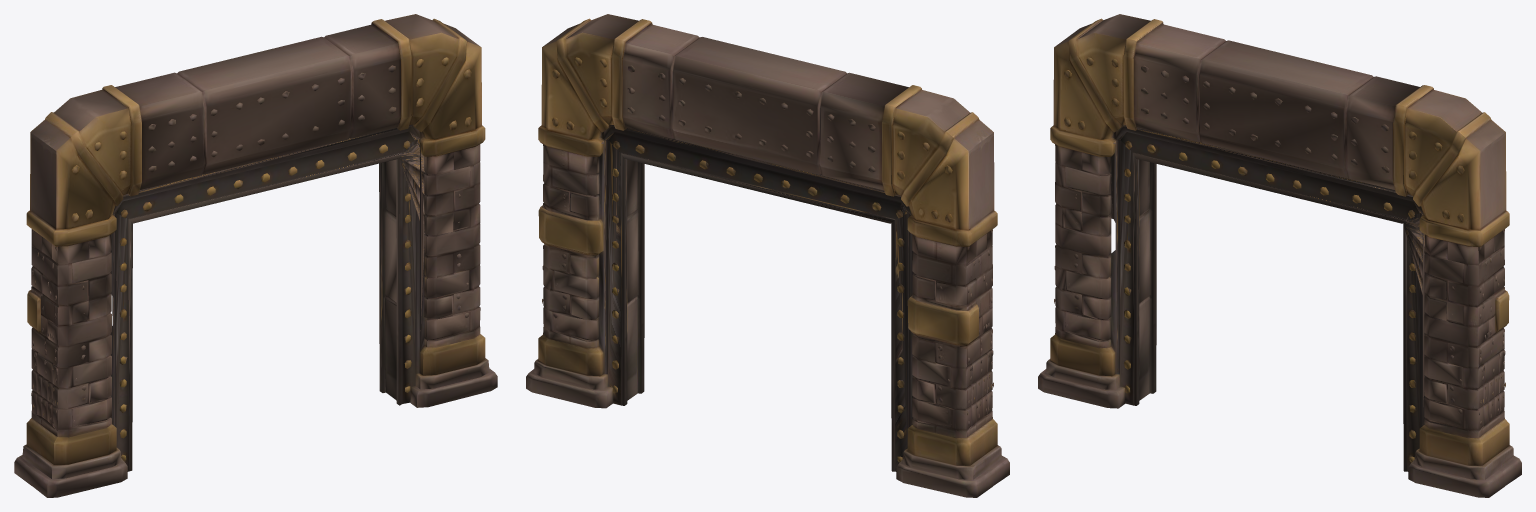
File: asset.glb
3 renders of one model, left to right at view 1: azimuth 30°, elevation 25°; view 2: azimuth 150°, elevation 25°; view 3: azimuth 330°, elevation 25°, orthographic.
Parts seen in each view (by area): view 1: tripo_node_469c348e-0831-4f20-a20d-5859b2a0bab2; view 2: tripo_node_469c348e-0831-4f20-a20d-5859b2a0bab2; view 3: tripo_node_469c348e-0831-4f20-a20d-5859b2a0bab2.
Boxes of the visible parts, x1=… form: tripo_node_469c348e-0831-4f20-a20d-5859b2a0bab2: x1=14, y1=14, x2=497, y2=497; tripo_node_469c348e-0831-4f20-a20d-5859b2a0bab2: x1=526, y1=14, x2=1009, y2=497; tripo_node_469c348e-0831-4f20-a20d-5859b2a0bab2: x1=1038, y1=14, x2=1521, y2=497.
Size of the model in its own units: 69.57 by 54.41 by 10.
1 material, 1 textured.
